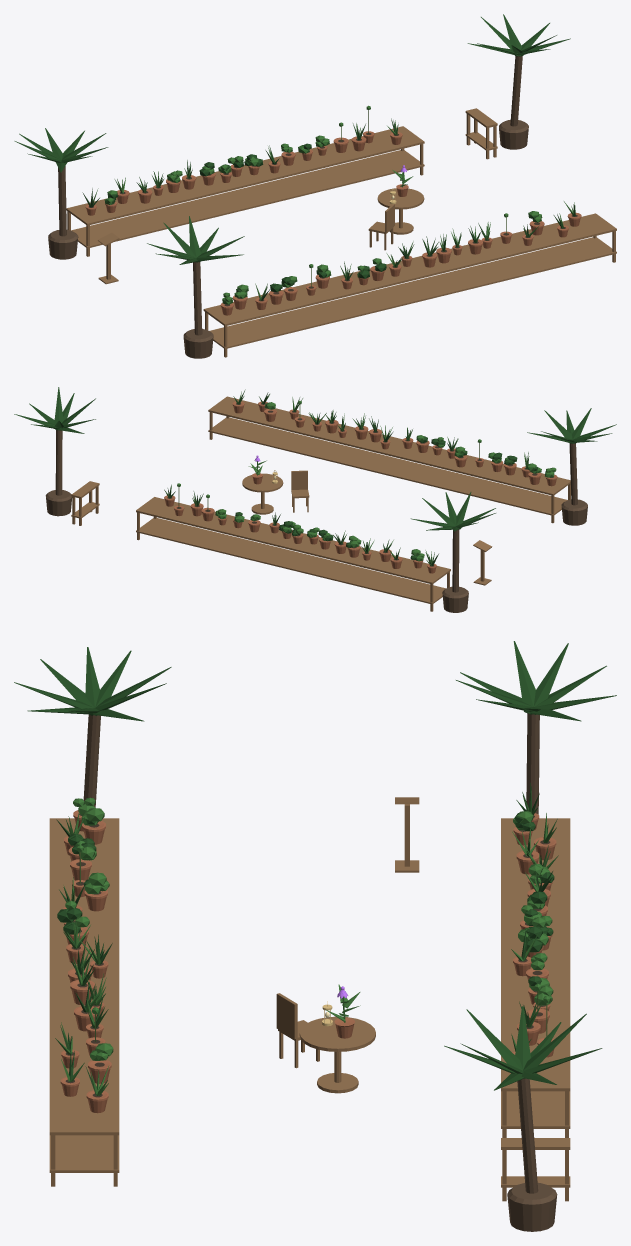
The model's file is Greenhouse_Plants.fbx.
3 renders of one model, top to bottom at view 1: azimuth 30°, elevation 25°; view 2: azimuth 150°, elevation 25°; view 3: azimuth 270°, elevation 25°, orthographic. The views are drawn at different scales.
Visible parts, largest first — view 1: GH_Benches, GH_Pots, GH_PalmTrunks, GH_PalmFronds, GH_Leaves, GH_LeavesDark, GH_DisplayTable; view 2: GH_Benches, GH_Pots, GH_PalmTrunks, GH_PalmFronds, GH_Leaves, GH_LeavesDark, GH_DisplayTable, GH_Lectern; view 3: GH_Benches, GH_PalmFronds, GH_Pots, GH_Leaves, GH_PalmTrunks, GH_DisplayTable, GH_LeavesDark, GH_Lectern.
Part boxes in pixels (bbox=[...]): GH_Benches: bbox=[66, 108, 616, 357]; GH_Pots: bbox=[85, 131, 581, 315]; GH_PalmTrunks: bbox=[48, 56, 528, 358]; GH_PalmFronds: bbox=[14, 14, 570, 264]; GH_Leaves: bbox=[92, 105, 575, 304]; GH_LeavesDark: bbox=[82, 118, 575, 300]; GH_DisplayTable: bbox=[368, 188, 424, 250]; GH_Benches: bbox=[71, 396, 570, 611]; GH_Pots: bbox=[164, 401, 557, 573]; GH_PalmTrunks: bbox=[45, 430, 587, 612]; GH_PalmFronds: bbox=[14, 387, 616, 531]; GH_Leaves: bbox=[164, 391, 556, 565]; GH_LeavesDark: bbox=[167, 389, 537, 565]; GH_DisplayTable: bbox=[242, 470, 309, 514]; GH_Lectern: bbox=[473, 540, 492, 585]; GH_Benches: bbox=[49, 818, 570, 1201]; GH_PalmFronds: bbox=[14, 641, 616, 1090]; GH_Pots: bbox=[60, 810, 556, 1113]; GH_Leaves: bbox=[55, 795, 558, 1095]; GH_PalmTrunks: bbox=[83, 713, 557, 1231]; GH_DisplayTable: bbox=[276, 993, 375, 1093]; GH_LeavesDark: bbox=[56, 783, 557, 1095]; GH_Lectern: bbox=[395, 797, 419, 872].
Size of the model in its own units: 14.72 by 3.13 by 8.69.
